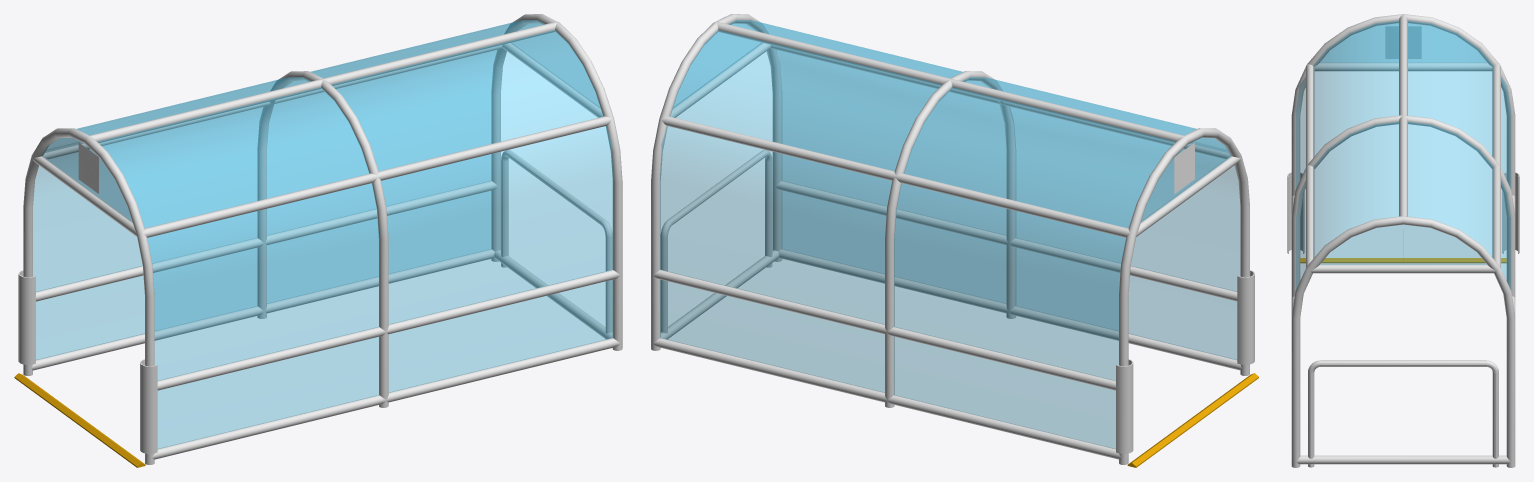
The model's file is TrolleyBay.fbx.
The picture shows the model from 3 angles, left to right: view 1: azimuth 30°, elevation 25°; view 2: azimuth 150°, elevation 25°; view 3: azimuth 270°, elevation 25°; orthographic projection. The views are drawn at different scales.
Parts seen in each view (by area): view 1: Trolley_Bay; view 2: Trolley_Bay; view 3: Trolley_Bay.
Part boxes in pixels (x1,y1,x2,y2): Trolley_Bay: (14,14,622,467); Trolley_Bay: (651,14,1258,467); Trolley_Bay: (1287,14,1519,467).
Size of the model in its own units: 214 by 456 by 255.
Materials: 4 (1 with a texture image).
